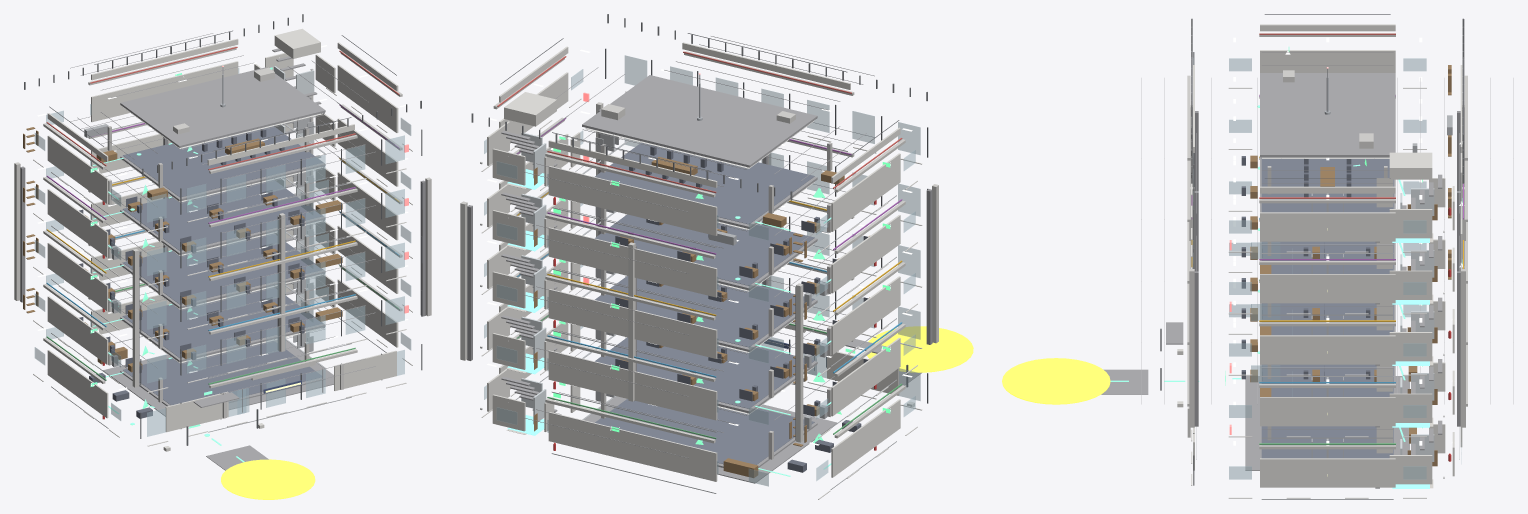
The model's file is OfficeBuilding_Final.glb.
The picture shows the model from 3 angles, left to right: view 1: azimuth 30°, elevation 25°; view 2: azimuth 150°, elevation 25°; view 3: azimuth 270°, elevation 25°; orthographic projection. The views are drawn at different scales.
Parts seen in each view (by area): view 1: Struct_Slabs, EXT_BuildingDetails, Walls_F1, Walls_F5, Design_F5, Walls_F2, Walls_F3, Walls_F4, Design_F4, Design_F2, Design_F3, Design_Roof (+17 smaller); view 2: Struct_Slabs, EXT_BuildingDetails, Walls_F1, Walls_F5, Walls_F2, Walls_F3, Walls_F4, Design_Windows, Design_Roof, Design_F5, INT_Details_F5, INT_Details_F4 (+15 smaller); view 3: Struct_Slabs, EXT_BuildingDetails, Walls_F5, Walls_F4, Walls_F1, Walls_F3, Walls_F2, Design_Windows, EVAC_AssemblyPoint, Design_Roof, Struct_Columns, INT_Details_F5 (+11 smaller).
Boxes of the visible parts, x1,y1,x2,y2 form: Struct_Slabs: (120,67,325,406); EXT_BuildingDetails: (14,14,431,446); Walls_F1: (47,274,398,432); Walls_F5: (47,48,398,203); Design_F5: (46,46,422,224); Walls_F2: (47,221,398,364); Walls_F3: (47,167,398,310); Walls_F4: (47,113,398,257); Design_F4: (46,104,422,278); Design_F2: (46,212,422,385); Design_F3: (46,158,422,331); Design_Roof: (47,28,398,165); Struct_Slabs: (582,75,817,467); EXT_BuildingDetails: (460,14,938,499); Walls_F1: (487,322,900,481); Walls_F5: (487,72,900,235); Walls_F2: (487,261,900,420); Walls_F3: (487,199,900,358); Walls_F4: (487,134,900,297); Design_Windows: (484,69,915,486); Design_Roof: (499,42,900,187); Design_F5: (497,48,928,193); INT_Details_F5: (487,36,912,247); INT_Details_F4: (487,111,912,309); Struct_Slabs: (1260,73,1395,458); EXT_BuildingDetails: (1187,14,1467,498); Walls_F5: (1260,50,1462,242); Walls_F4: (1260,201,1462,304); Walls_F1: (1193,420,1462,488); Walls_F3: (1260,262,1462,365); Walls_F2: (1260,359,1454,427); Design_Windows: (1229,58,1461,479); EVAC_AssemblyPoint: (1002,358,1110,404); Design_Roof: (1193,24,1462,193); Struct_Columns: (1194,111,1460,426); INT_Details_F5: (1141,37,1513,253).
Bounding box in the file's own units: 2048 × 2030 × 2641.
